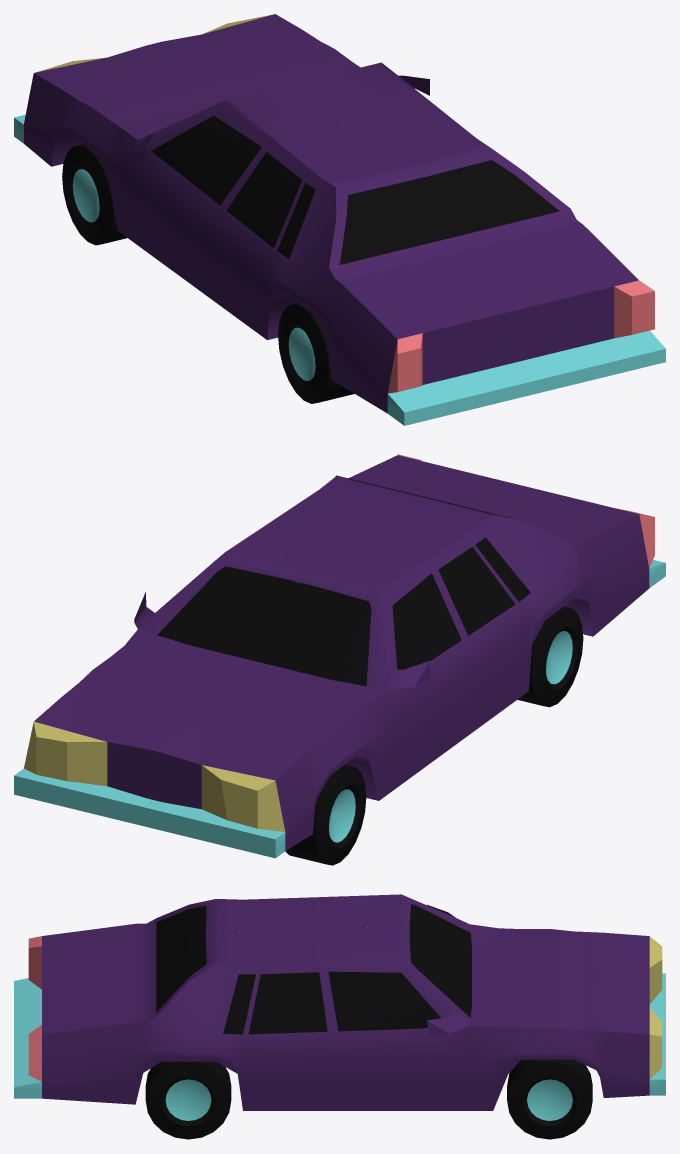
Rendered from Car.fbx.
3 renders of one model, top to bottom at view 1: azimuth 30°, elevation 25°; view 2: azimuth 150°, elevation 25°; view 3: azimuth 270°, elevation 25°, orthographic. The views are drawn at different scales.
Visible parts, largest first — view 1: Car, pCylinder6, pCylinder3; view 2: Car, pCylinder3, pCylinder6; view 3: Car, pCylinder4, pCylinder5.
Boxes of the visible parts, left/top/right/bottom form: Car: left=14, top=14, right=665, bottom=425; pCylinder6: left=278, top=303, right=354, bottom=403; pCylinder3: left=62, top=144, right=126, bottom=245; Car: left=14, top=454, right=665, bottom=858; pCylinder3: left=285, top=764, right=366, bottom=865; pCylinder6: left=517, top=606, right=583, bottom=707; Car: left=14, top=894, right=665, bottom=1110; pCylinder4: left=507, top=1059, right=592, bottom=1139; pCylinder5: left=145, top=1061, right=231, bottom=1139.
Size of the model in its own units: 3.47 by 2.25 by 8.17.
